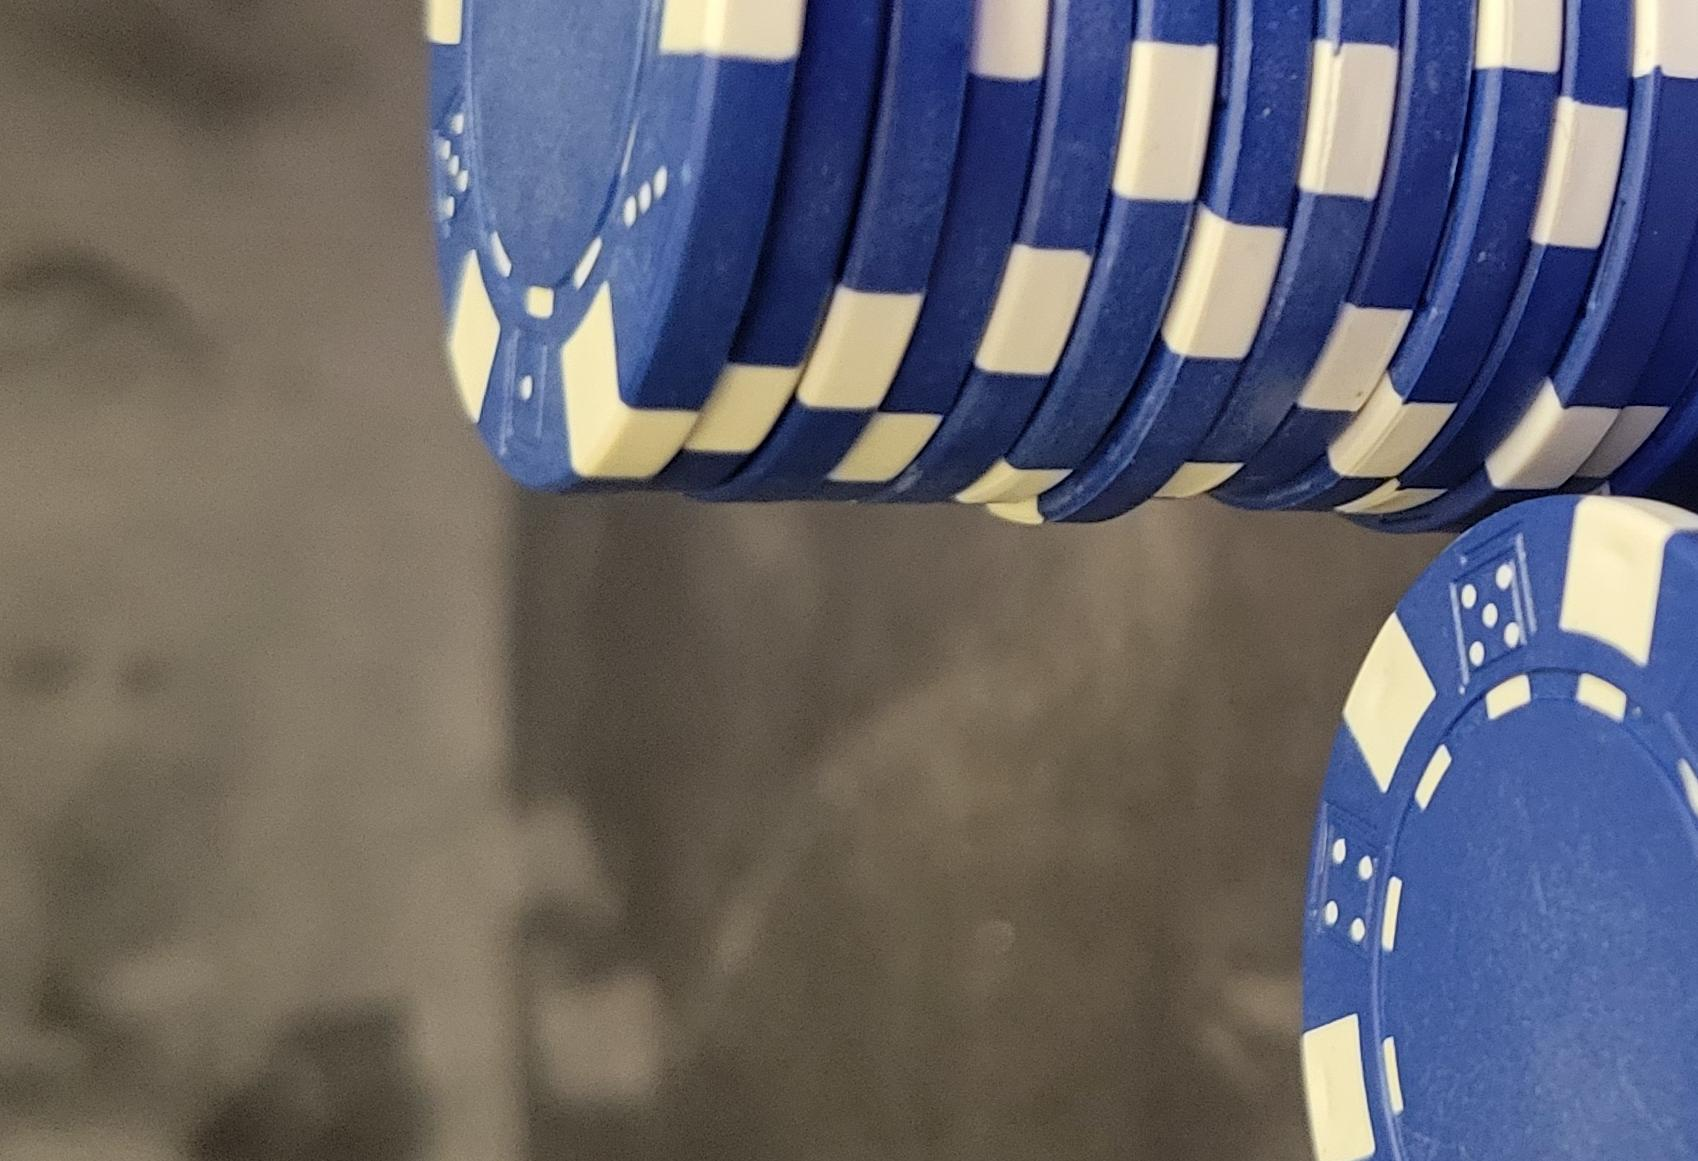Chip: (1, 384, 1209, 1161)
